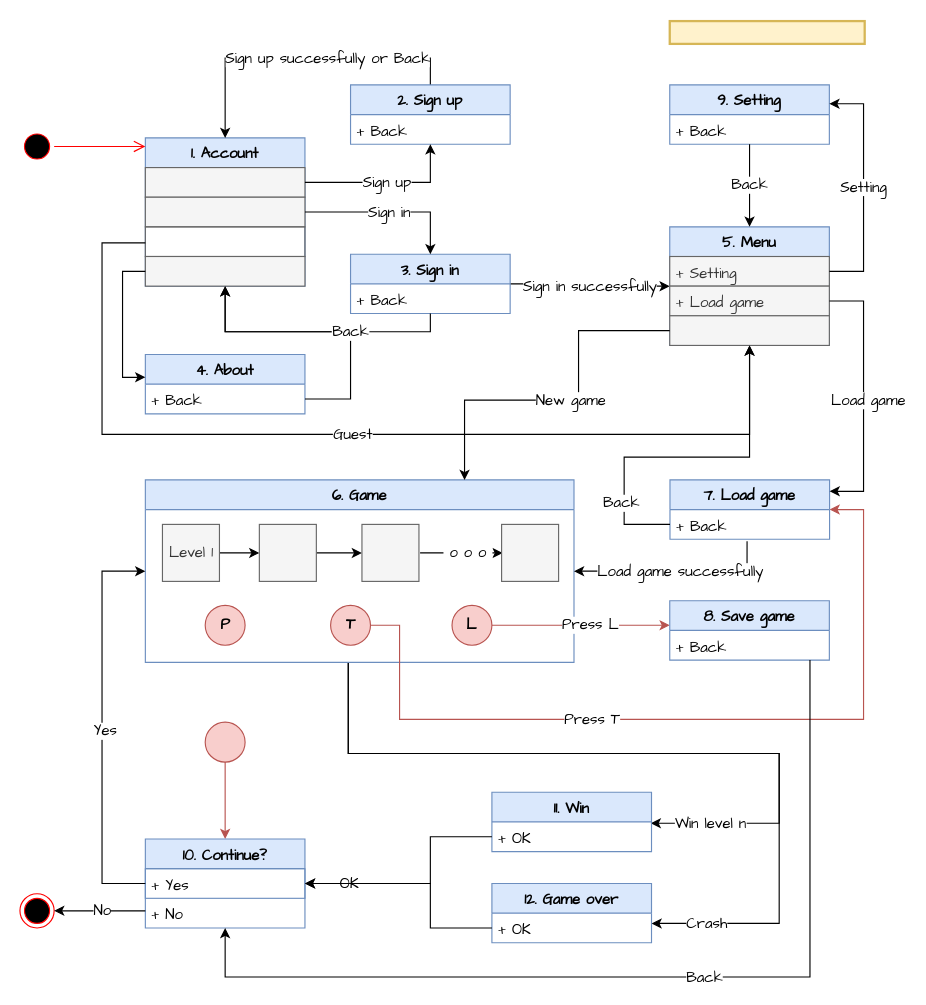
Some shapes in this 926 by 1005 pixel diagram are drawn without their labels. Here are the shapes that lost their labels. From the top down, the centre of each, then its label:
point (766, 31): Group 09 * 18CLC1
point (224, 181): + Sign up
point (224, 211): + Sign in
point (224, 241): + Guest
point (224, 270): + About
point (749, 330): + New game
point (287, 552): Level 2
point (390, 552): Level 3
point (529, 552): Level n
point (224, 741): ESC
